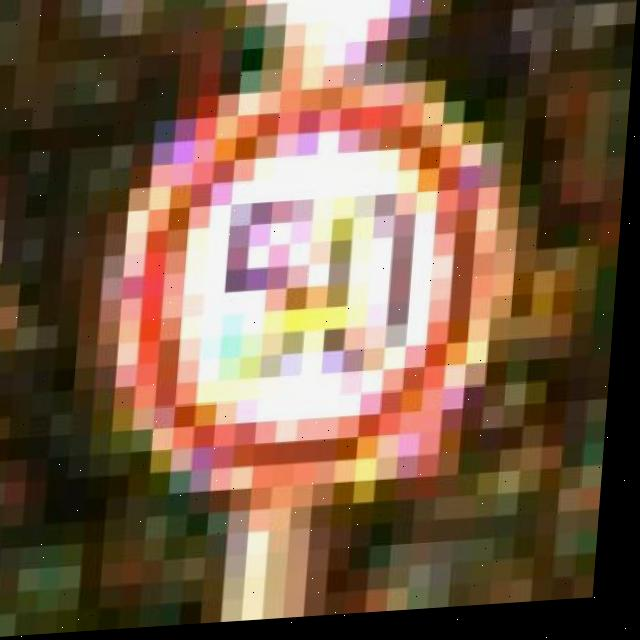Speed limit 50: (109, 1, 520, 512)
